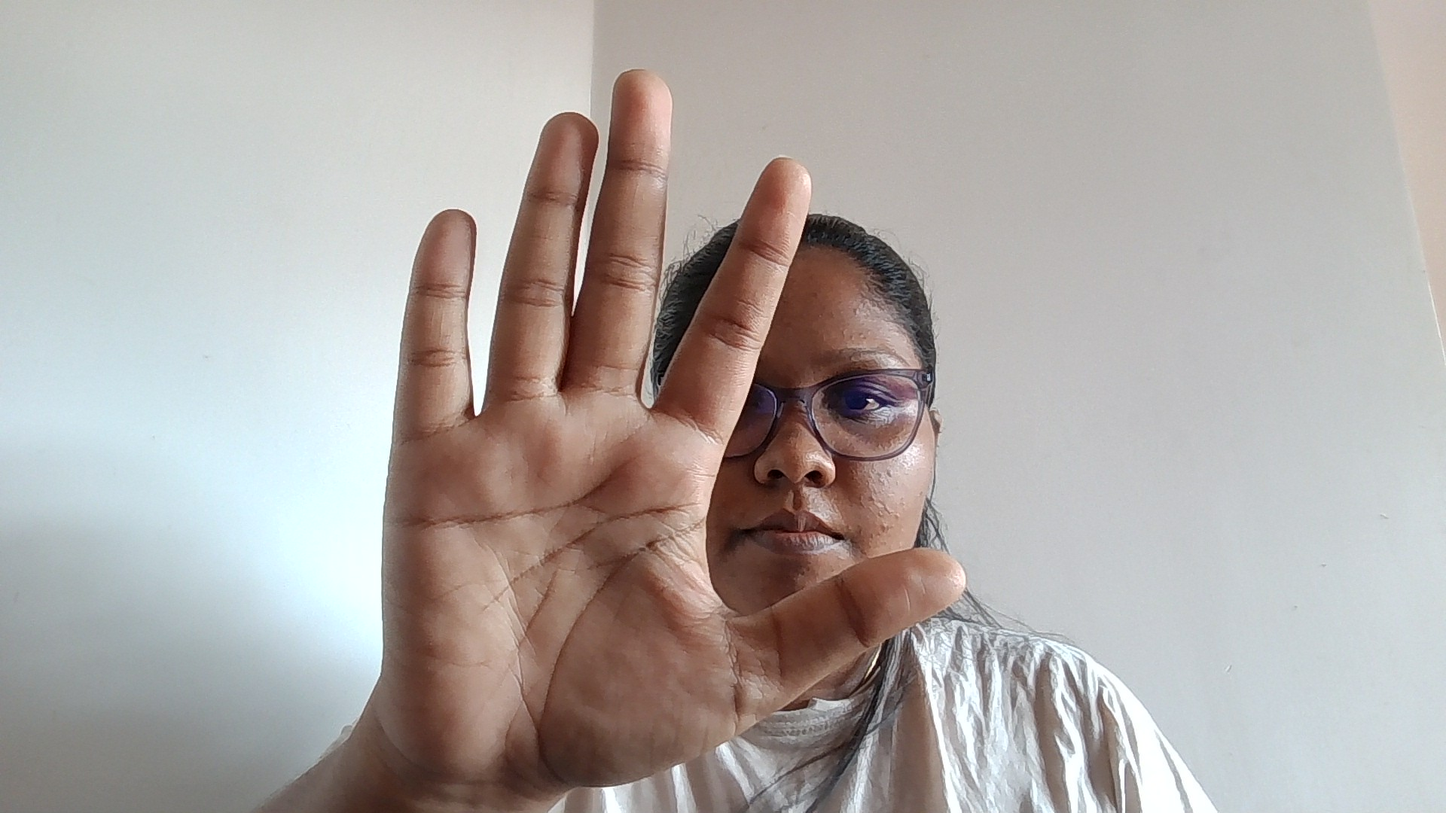Hello: (311, 104, 984, 808)
